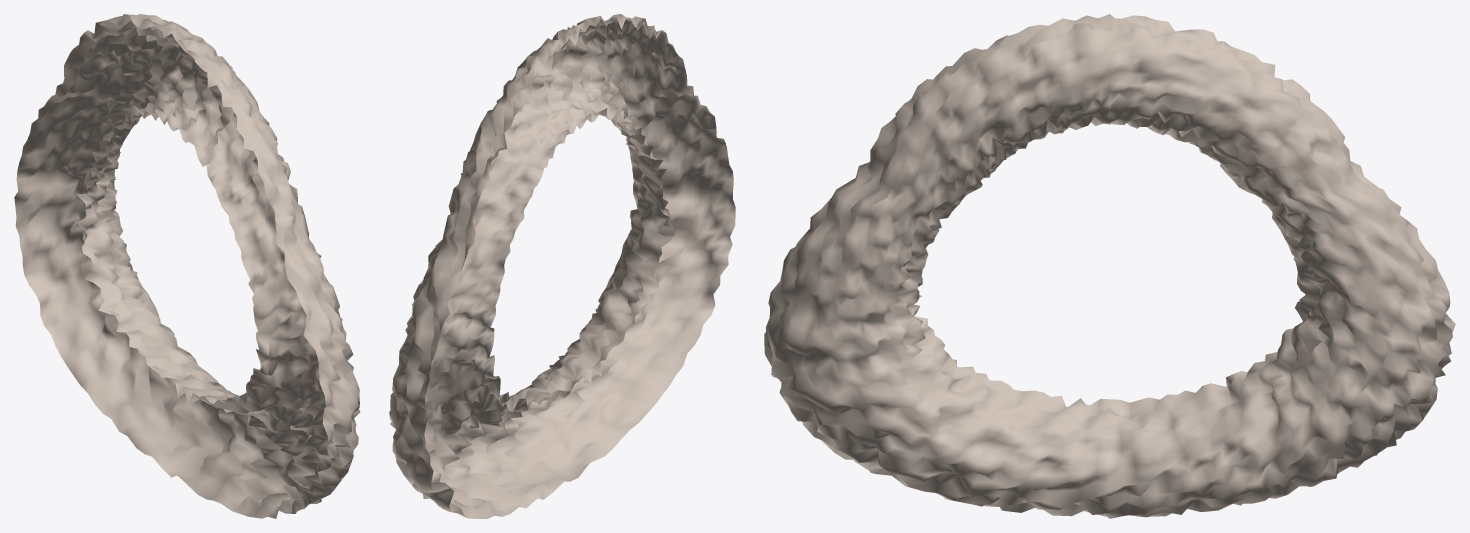
File: rock_natural_bridge_small.glb
3 views of the same model, side by side, from view 1: azimuth 30°, elevation 25°; view 2: azimuth 150°, elevation 25°; view 3: azimuth 270°, elevation 25° (orthographic). The views are drawn at different scales.
Parts seen in each view (by area): view 1: NaturalBridge_small; view 2: NaturalBridge_small; view 3: NaturalBridge_small.
Boxes of the visible parts, bbox=[...] form: NaturalBridge_small: bbox=[14, 14, 360, 518]; NaturalBridge_small: bbox=[389, 14, 735, 518]; NaturalBridge_small: bbox=[764, 14, 1455, 518].
Size of the model in its own units: 22.3 by 128 by 163.
